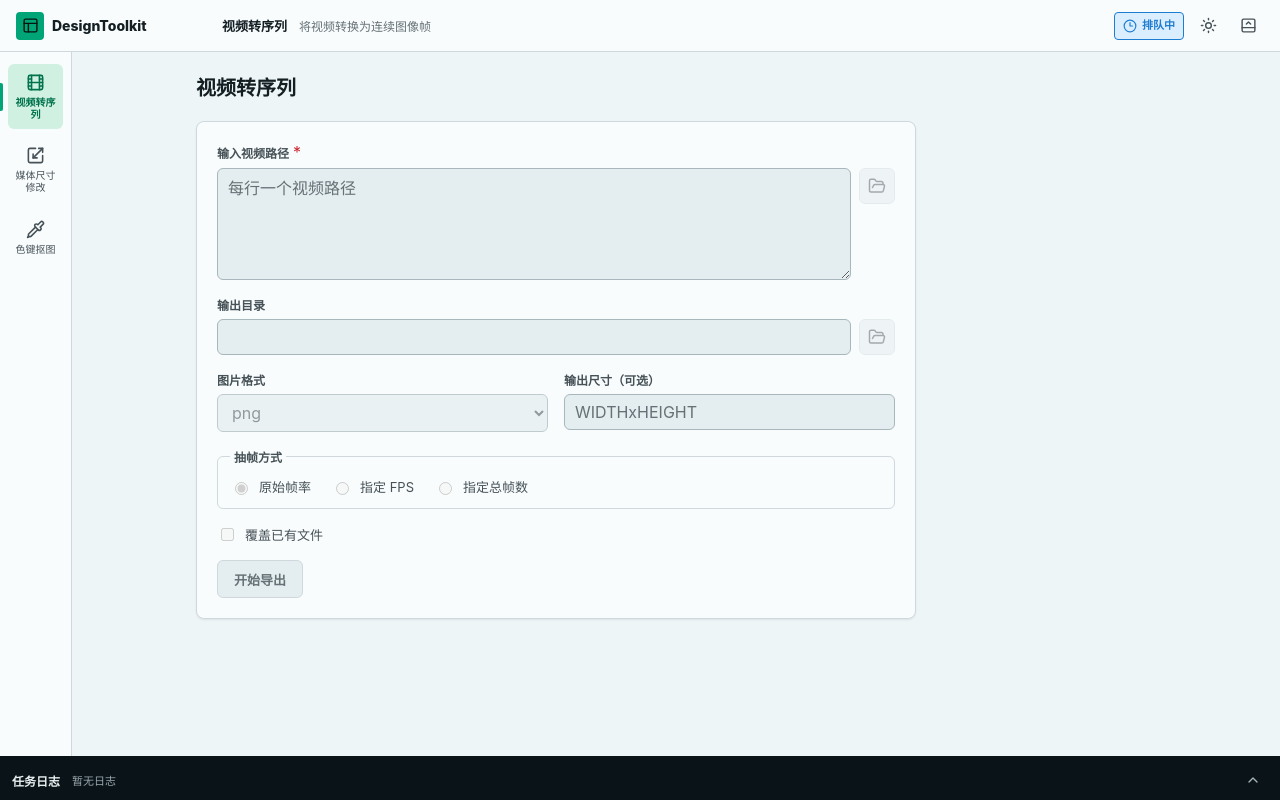
Test: AppShell › keeps navigation enabled while a task is queued
This screenshot has width=1280, height=800.
Click the button "媒体尺寸修改".
click(36, 170)  # box x1=8 y1=137 x2=63 y2=202
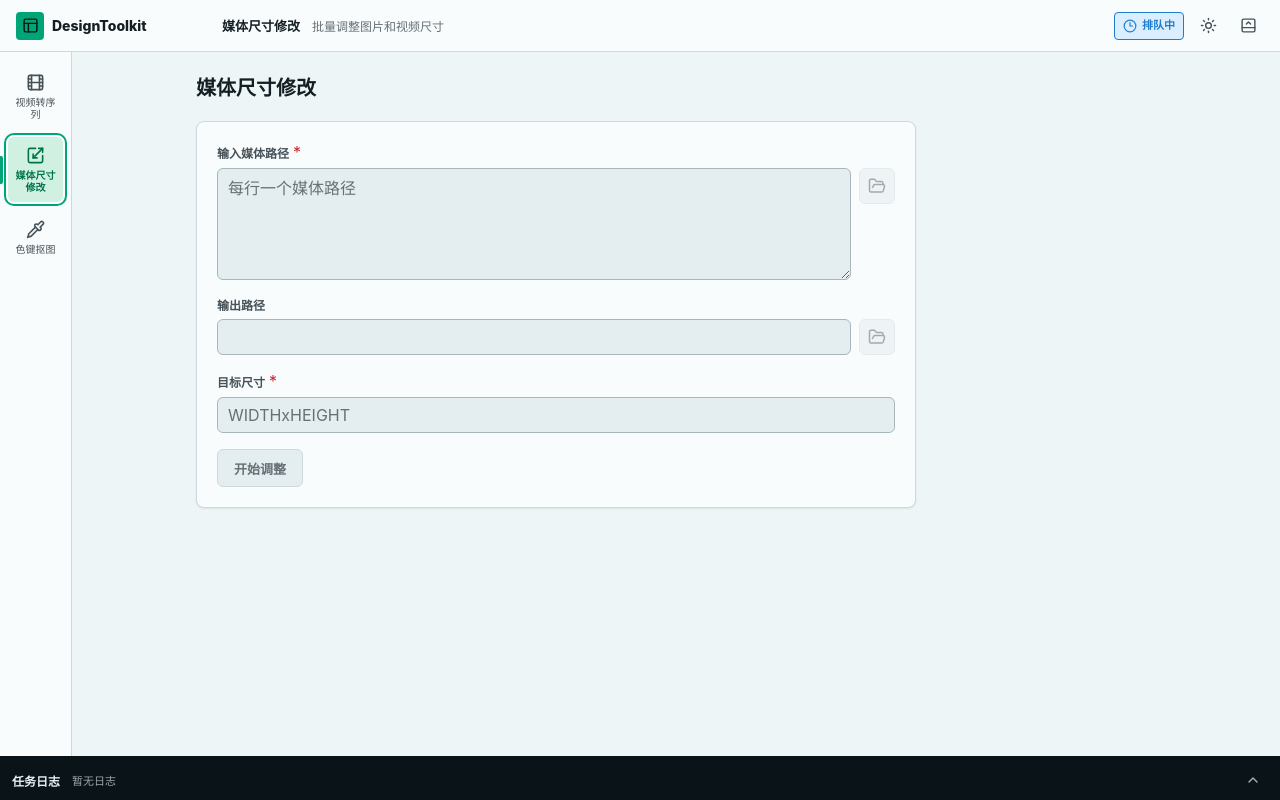
Expected: the heading "媒体尺寸修改" is shown, x1=196 y1=76 x2=316 y2=100
